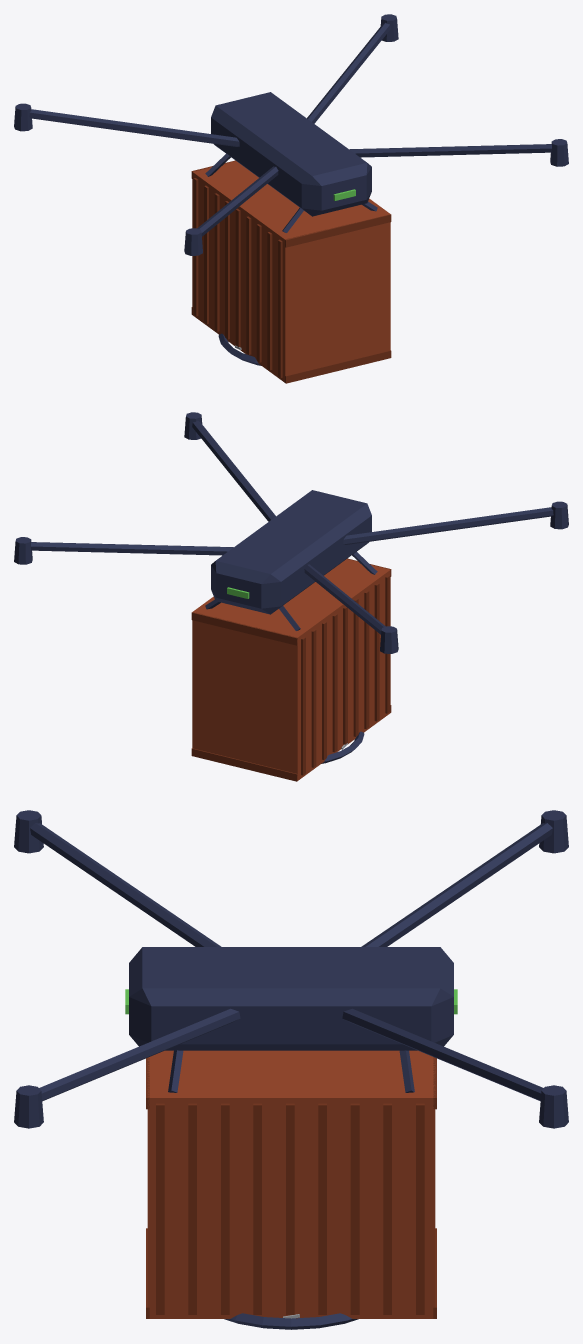
The model's file is cargo_drone.glb.
3 views of the same model, one above another, from view 1: azimuth 30°, elevation 25°; view 2: azimuth 150°, elevation 25°; view 3: azimuth 270°, elevation 25° (orthographic). The views are drawn at different scales.
Parts seen in each view (by area): view 1: body; view 2: body; view 3: body, wheel0.
Part boxes in pixels (x1,y1,x2,y2): body: (14, 14, 568, 383); body: (14, 412, 568, 781); body: (14, 810, 568, 1318); wheel0: (224, 1313, 358, 1329).
Bounding box in the file's own units: 5.45 × 2.94 × 4.44.
